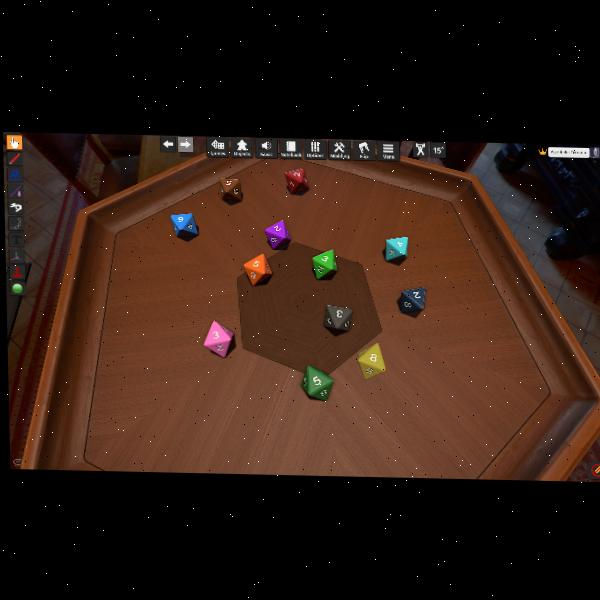d8: (300, 364, 334, 399), (204, 320, 233, 358), (243, 253, 273, 286), (357, 343, 384, 379), (264, 219, 290, 249), (324, 304, 352, 331), (311, 249, 336, 279), (171, 212, 199, 236), (400, 286, 425, 312), (285, 167, 309, 194), (385, 235, 408, 260), (220, 177, 242, 201)
